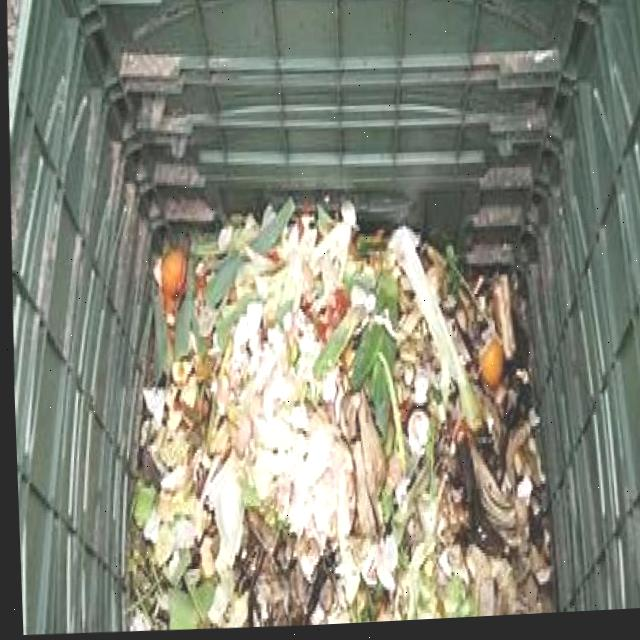Garbage: (123, 202, 547, 628)
can: (403, 413, 424, 460), (409, 373, 424, 408)
